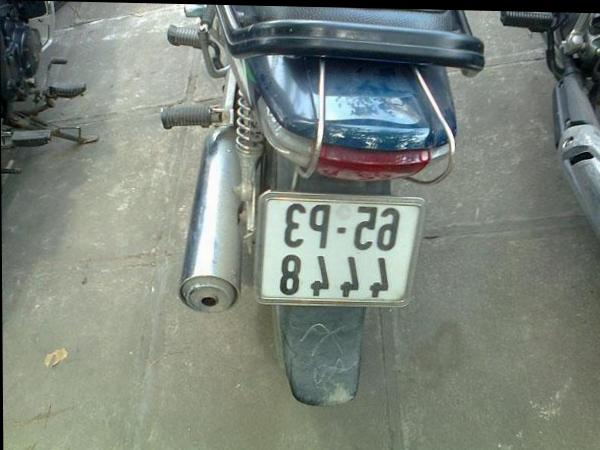License_Plate: (255, 199, 420, 304)
